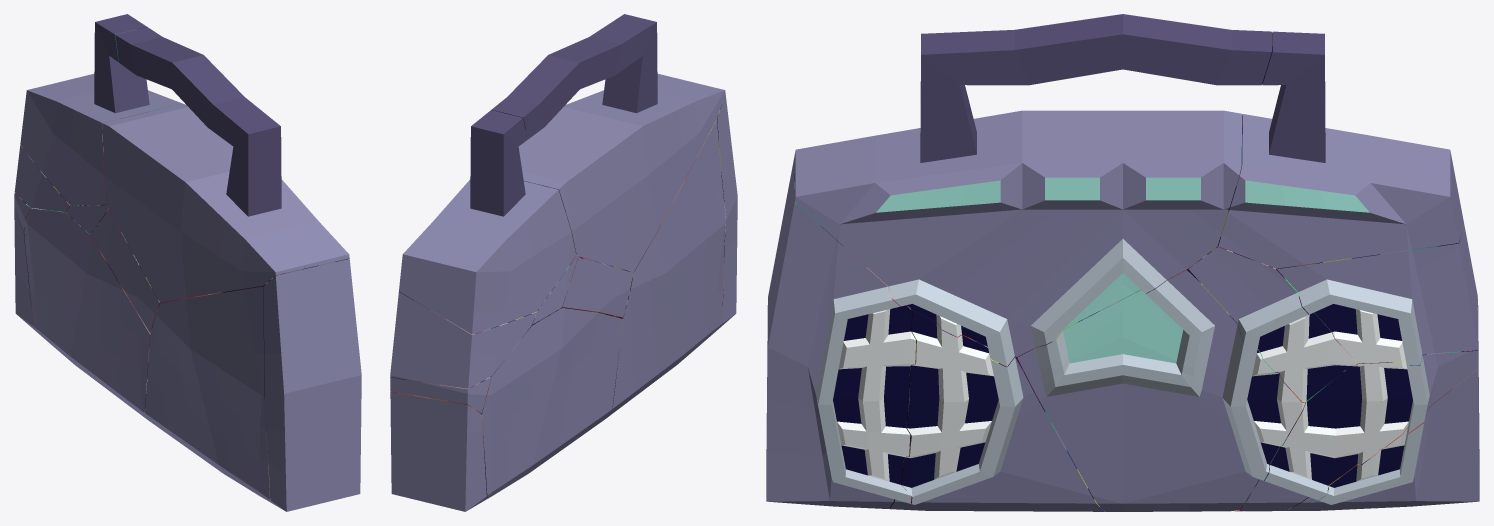
Rendered from Radio.fbx.
The picture shows the model from 3 angles, left to right: view 1: azimuth 30°, elevation 25°; view 2: azimuth 150°, elevation 25°; view 3: azimuth 270°, elevation 25°; orthographic projection. The views are drawn at different scales.
Visible parts, largest first — view 1: Radio_cell.006, Radio_cell.009, Radio_cell.005, Radio_cell.003, Radio_cell.002, Radio_cell, Radio_cell.007, Radio_cell.008, Radio_cell.001; view 2: Radio_cell.006, Radio_cell.002, Radio_cell.003, Radio_cell.005, Radio_cell.008, Radio_cell.007, Radio_cell, Radio_cell.009, Radio_cell.004, Radio_cell.001; view 3: Radio_cell.006, Radio_cell, Radio_cell.009, Radio_cell.002, Radio_cell.005, Radio_cell.007, Radio_cell.004, Radio_cell.008, Radio_cell.001.
Part boxes in pixels (box(x1,y1,x2,y2)): Radio_cell.006: box(102, 27, 349, 302); Radio_cell.009: box(263, 259, 361, 511); Radio_cell.005: box(145, 286, 270, 502); Radio_cell.003: box(24, 208, 150, 420); Radio_cell.002: box(20, 14, 182, 205); Radio_cell: box(90, 210, 160, 333); Radio_cell.007: box(14, 145, 70, 213); Radio_cell.008: box(14, 207, 36, 331); Radio_cell.001: box(66, 204, 108, 235); Radio_cell.006: box(491, 14, 725, 272); Radio_cell.002: box(399, 110, 576, 334); Radio_cell.003: box(481, 308, 622, 498); Radio_cell.005: box(607, 119, 725, 417); Radio_cell.008: box(390, 392, 486, 511); Radio_cell.007: box(390, 291, 536, 388); Radio_cell: box(560, 256, 633, 318); Radio_cell.009: box(717, 93, 737, 326); Radio_cell.004: box(390, 376, 492, 414); Radio_cell.001: box(531, 255, 578, 325); Radio_cell.006: box(794, 14, 1271, 366); Radio_cell: box(1017, 269, 1305, 511); Radio_cell.009: box(766, 154, 915, 508); Radio_cell.002: box(1218, 31, 1464, 268); Radio_cell.005: box(889, 309, 1104, 511); Radio_cell.007: box(1277, 226, 1477, 365); Radio_cell.004: box(1240, 293, 1478, 511); Radio_cell.008: box(1286, 341, 1479, 510); Radio_cell.001: box(1188, 246, 1357, 402).
Size of the model in its own units: 53.53 by 163 by 228.
